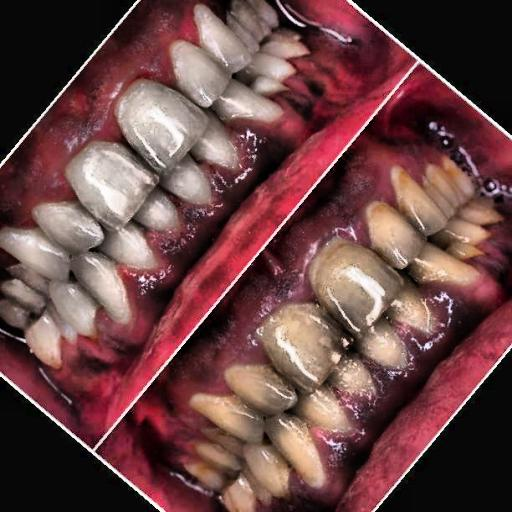Calculus: (175, 363, 405, 491), (348, 142, 509, 299), (297, 236, 369, 302)
